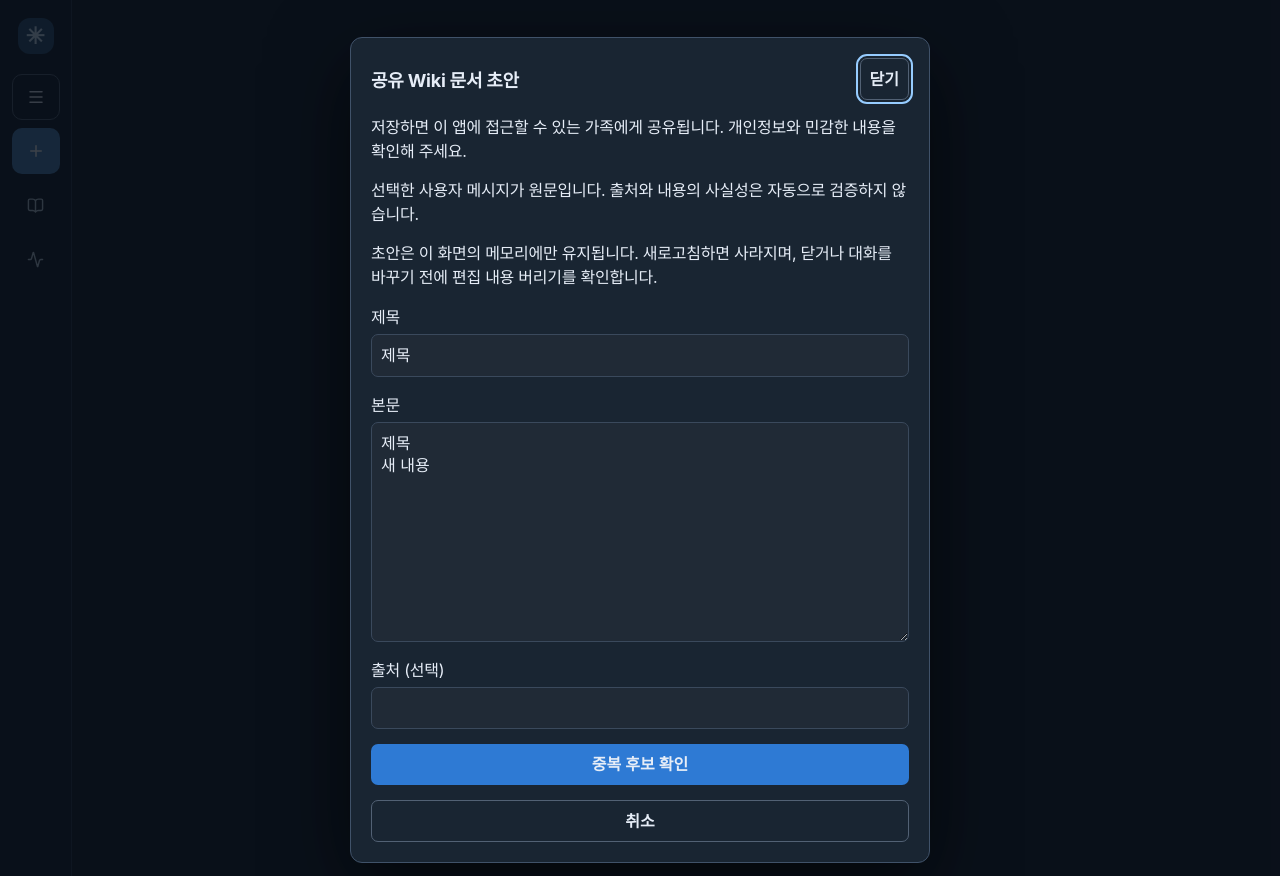
Test: requires selecting a compared document and retains the draft on revision conflict
Click the button "중복 후보 확인": click(640, 764) [371,744,909,785]
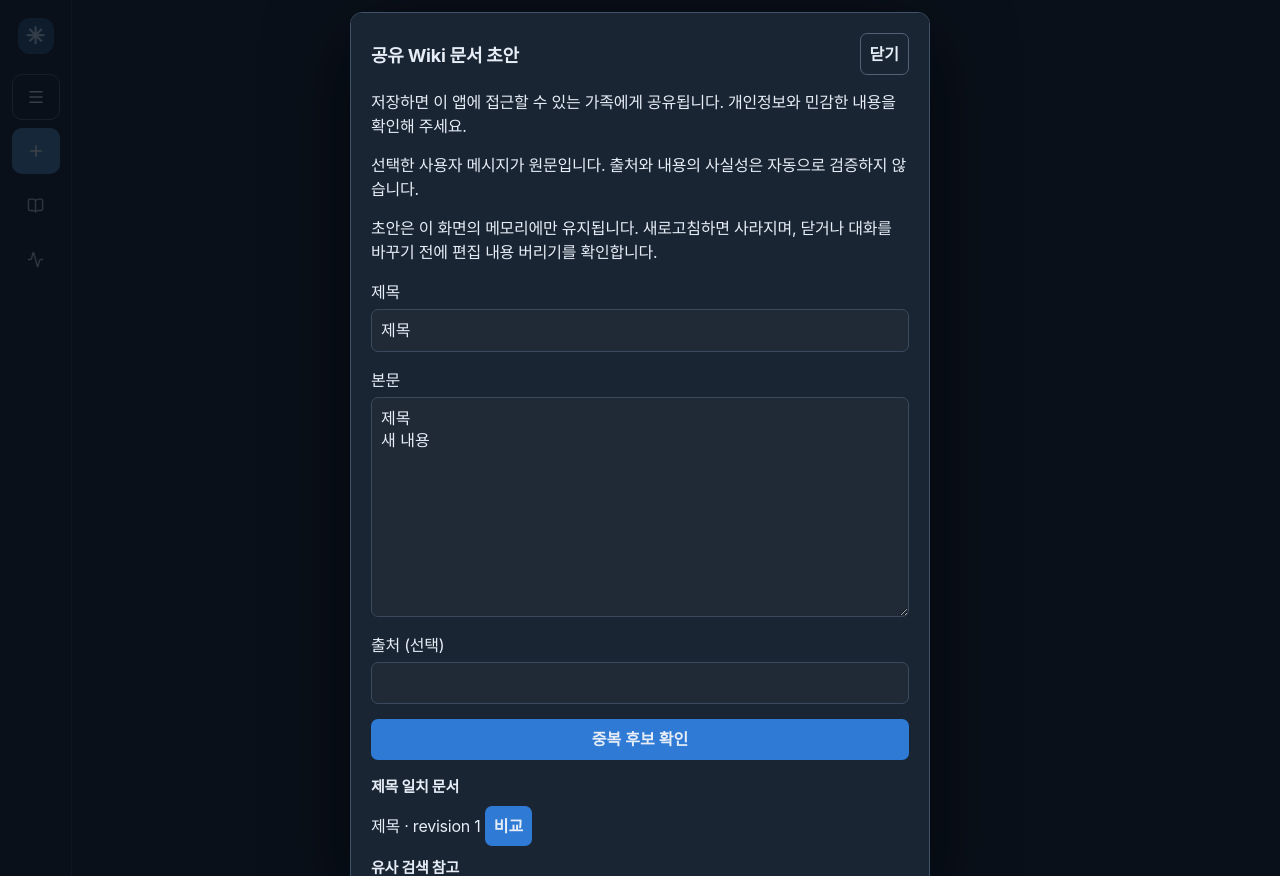
Click the button "비교": click(509, 826) [485,806,532,846]
(page scrolled)
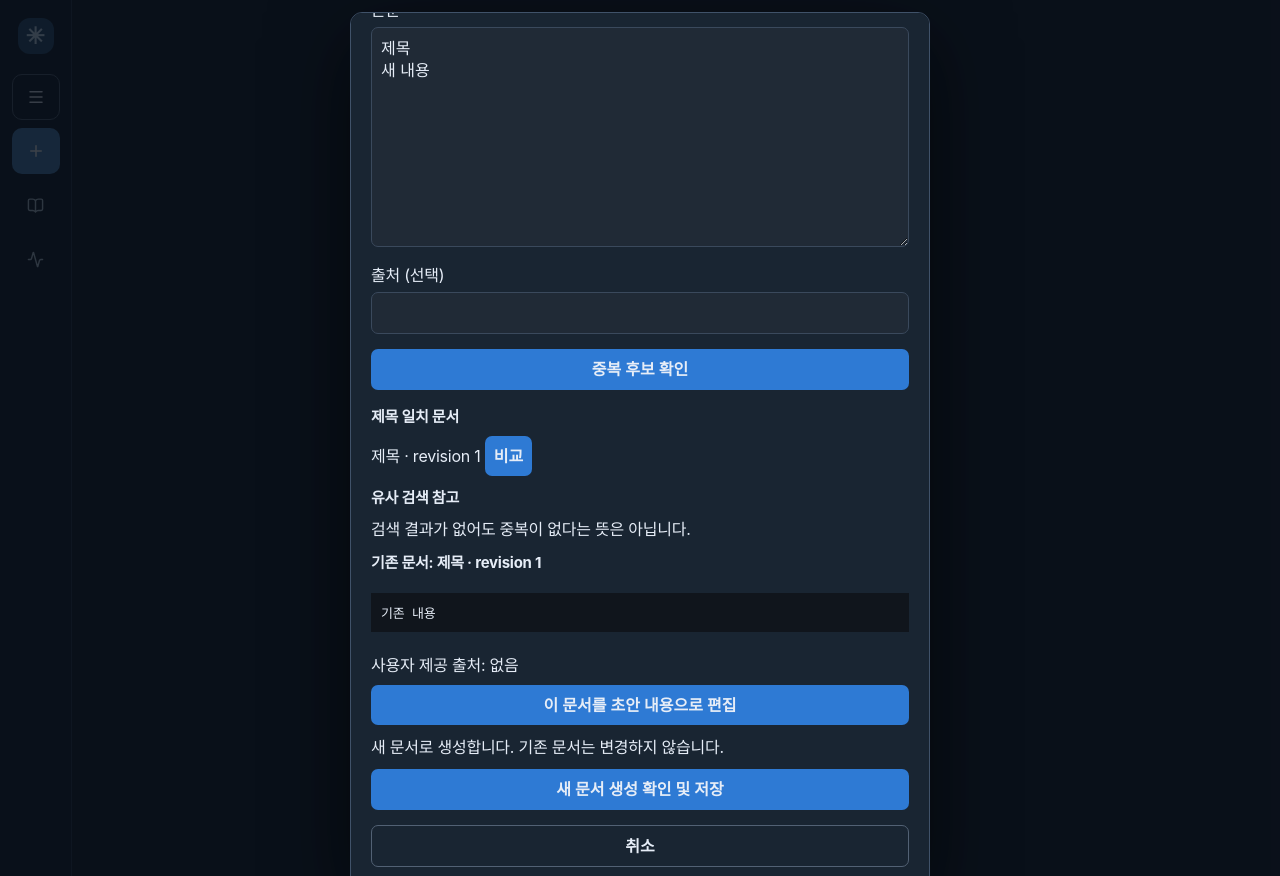
Expected: the text "기존 내용" is shown, [371,593,909,632]
Click the button "이 문서를 초안 내용으로 편집": click(640, 705) [371,685,909,725]
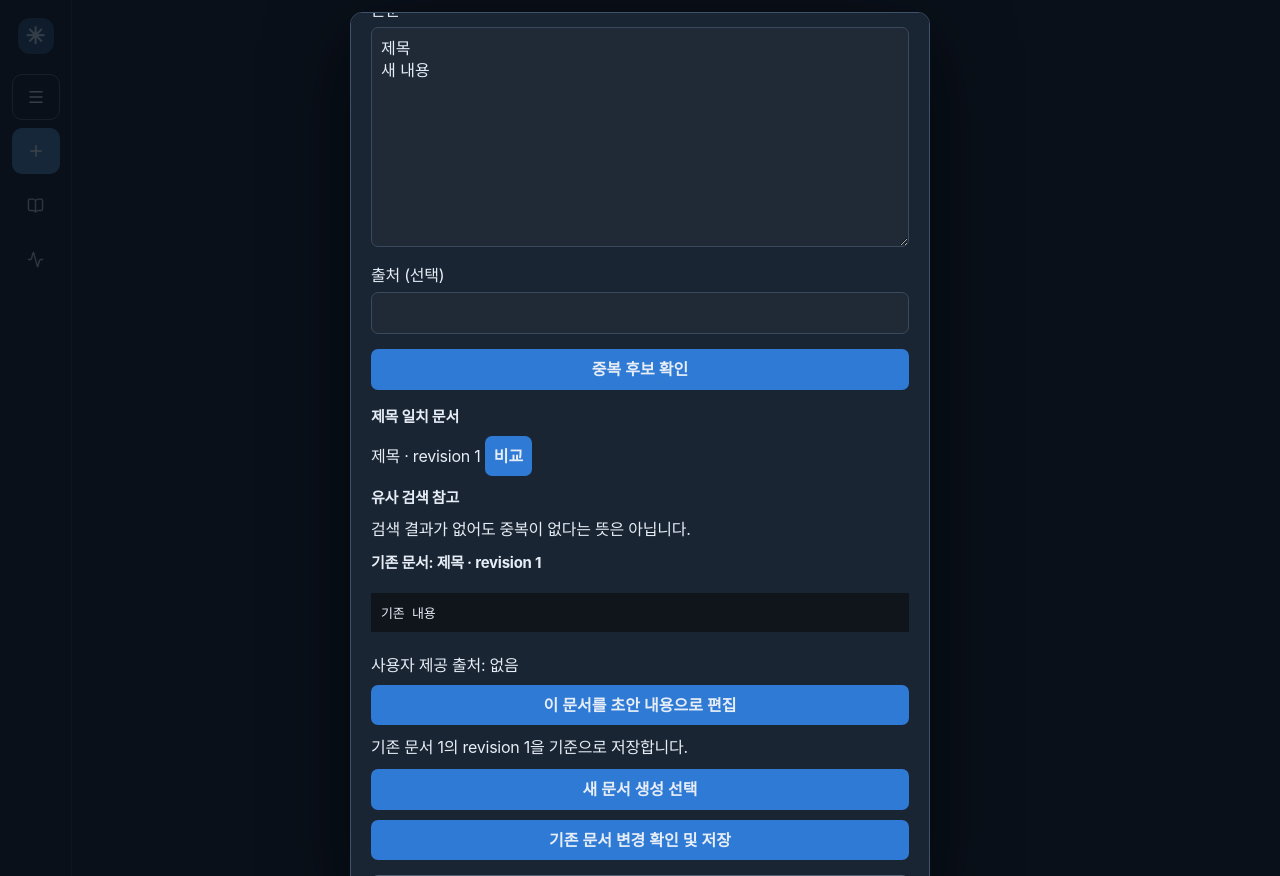
Click the button "기존 문서 변경 확인 및 저장": click(640, 840) [371,820,909,860]
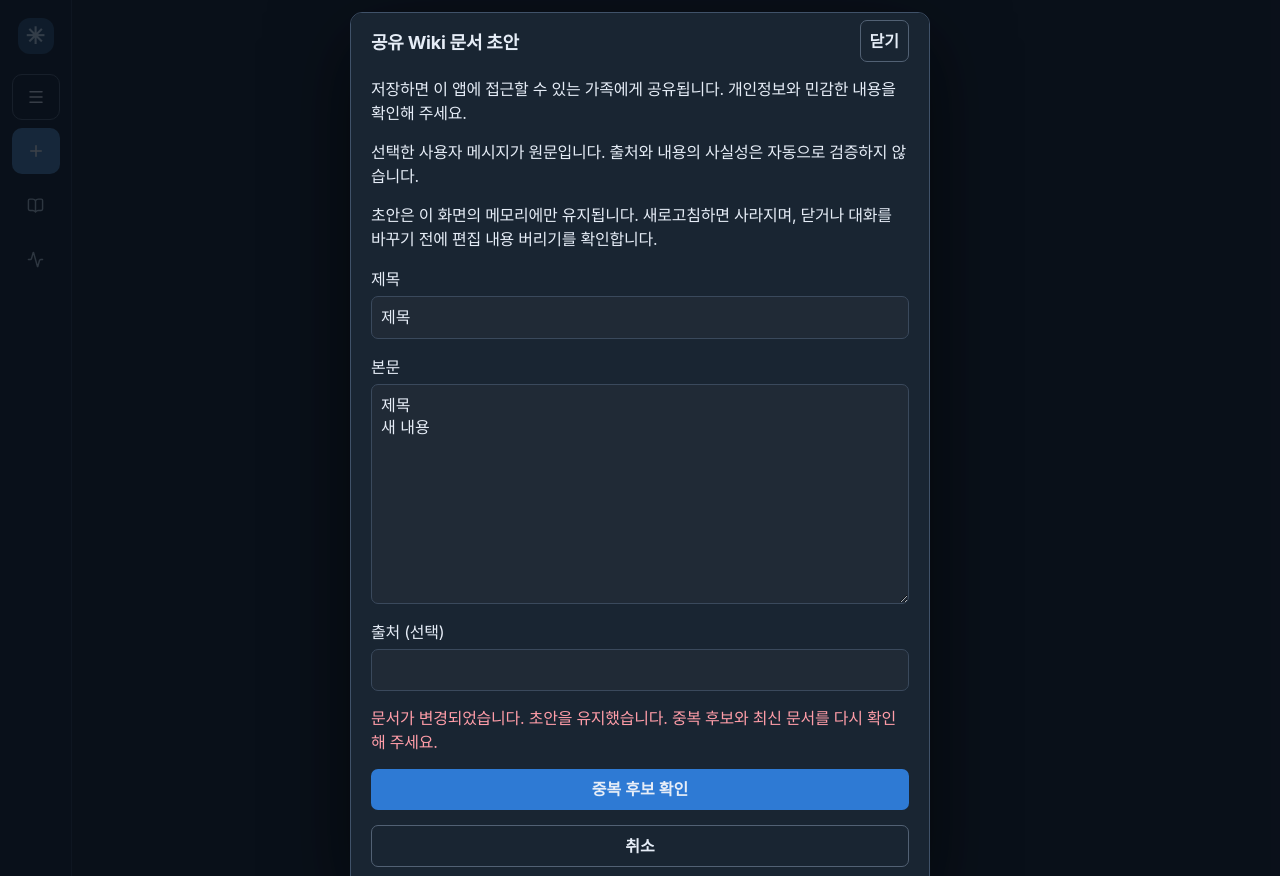
Expected: the text "문서가 변경되었습니다. 초안을 유지했습니다. 중복 후보와 최신 문서를 다시 확인해 주세요." is shown, [371,706,909,754]
